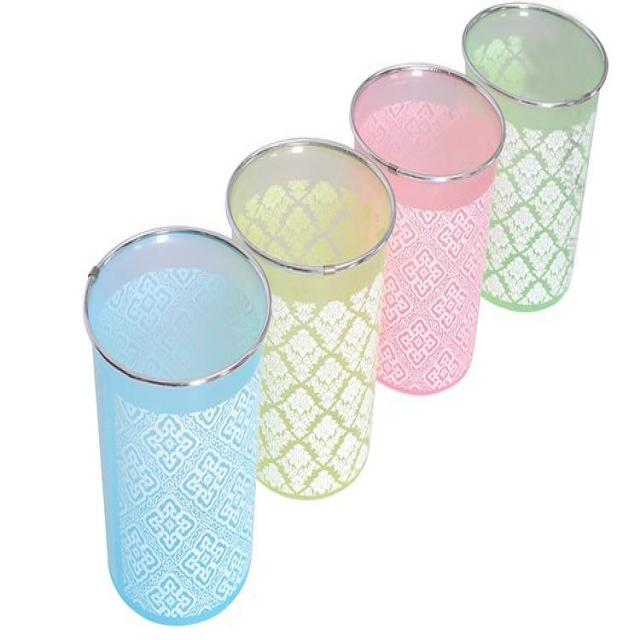dustbin: (80, 218, 273, 630), (224, 133, 400, 505), (346, 59, 507, 398), (460, 2, 610, 313)
